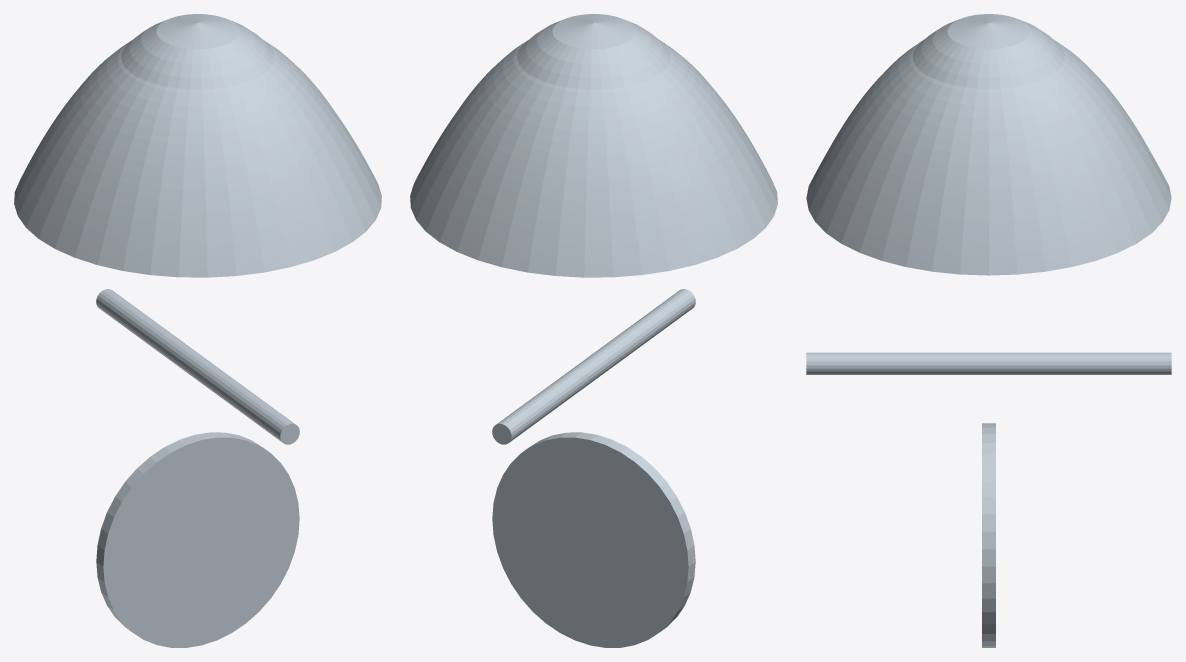
File: 1789180025168_Martini_Glass_glb.glb
3 renders of one model, left to right at view 1: azimuth 30°, elevation 25°; view 2: azimuth 150°, elevation 25°; view 3: azimuth 270°, elevation 25°, orthographic.
Parts seen in each view (by area): view 1: world; view 2: world; view 3: world.
Boxes of the visible parts, box(x1,y1,x2,y2) form: world: box(14, 14, 381, 647); world: box(410, 14, 777, 647); world: box(806, 14, 1171, 647).
Size of the model in its own units: 0.13 by 0.2415 by 0.13.
